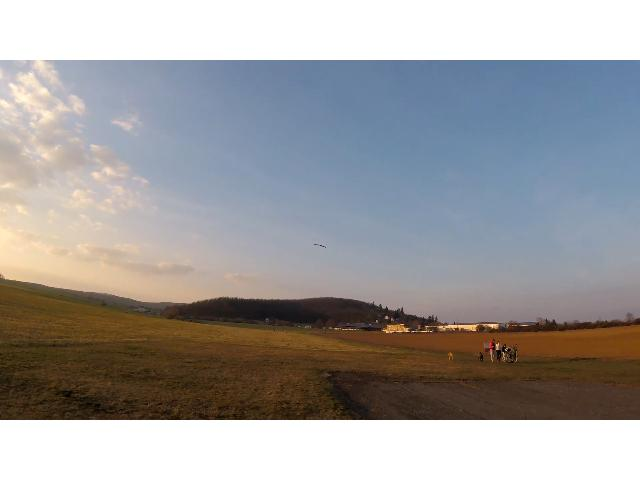Anti-Drone: (314, 244, 326, 248)
